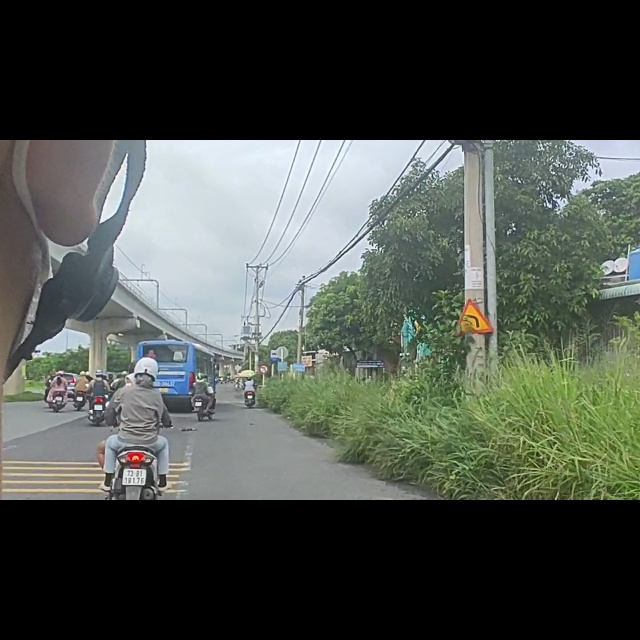bien_cam: (457, 281, 495, 350), (269, 369, 281, 397), (259, 399, 270, 416)
